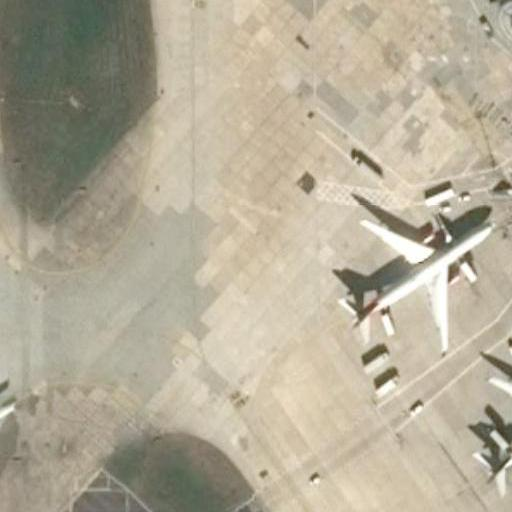Aircraft: (331, 204, 489, 344), (468, 364, 512, 512)
